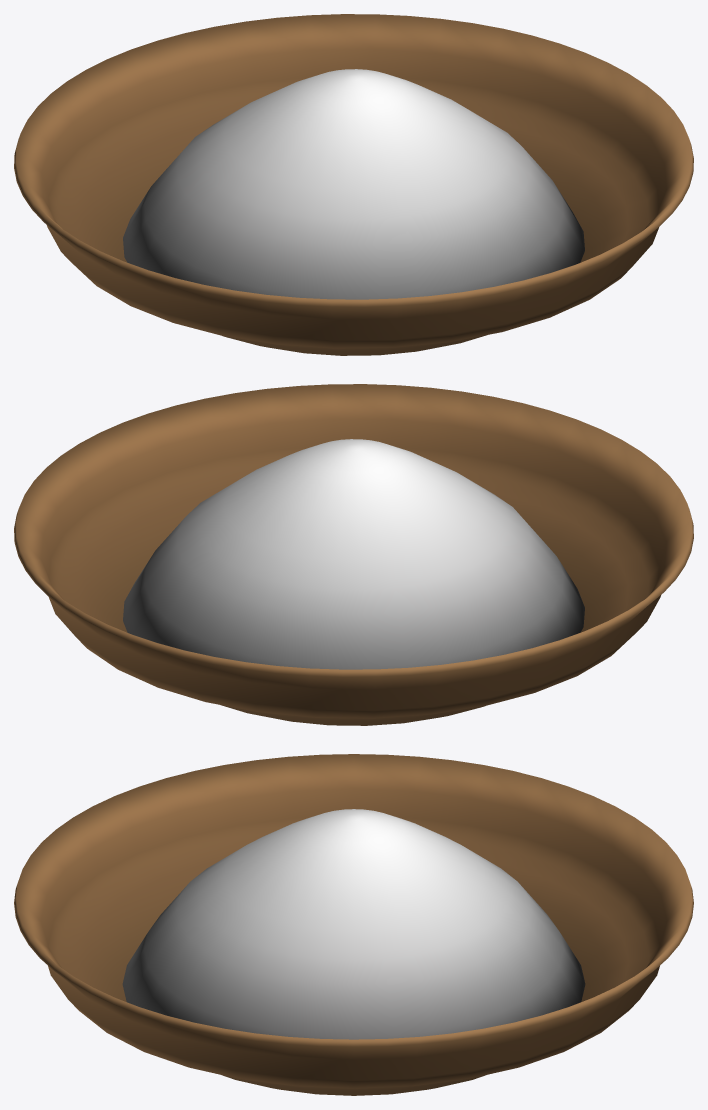
Rendered from salt.gltf.
The picture shows the model from 3 angles, top to bottom: view 1: azimuth 30°, elevation 25°; view 2: azimuth 150°, elevation 25°; view 3: azimuth 270°, elevation 25°; orthographic projection.
Visible parts, largest first — view 1: plate, salt; view 2: plate, salt; view 3: plate, salt.
Boxes of the visible parts, x1,y1,x2,y2 form: plate: [14, 14, 693, 355]; salt: [123, 69, 584, 299]; plate: [14, 384, 693, 725]; salt: [123, 439, 584, 669]; plate: [14, 754, 693, 1095]; salt: [122, 809, 585, 1039].
Size of what is drawn, in the model's own units: 0.542 by 0.1776 by 0.542.
Materials: 1 (1 with a texture image).
